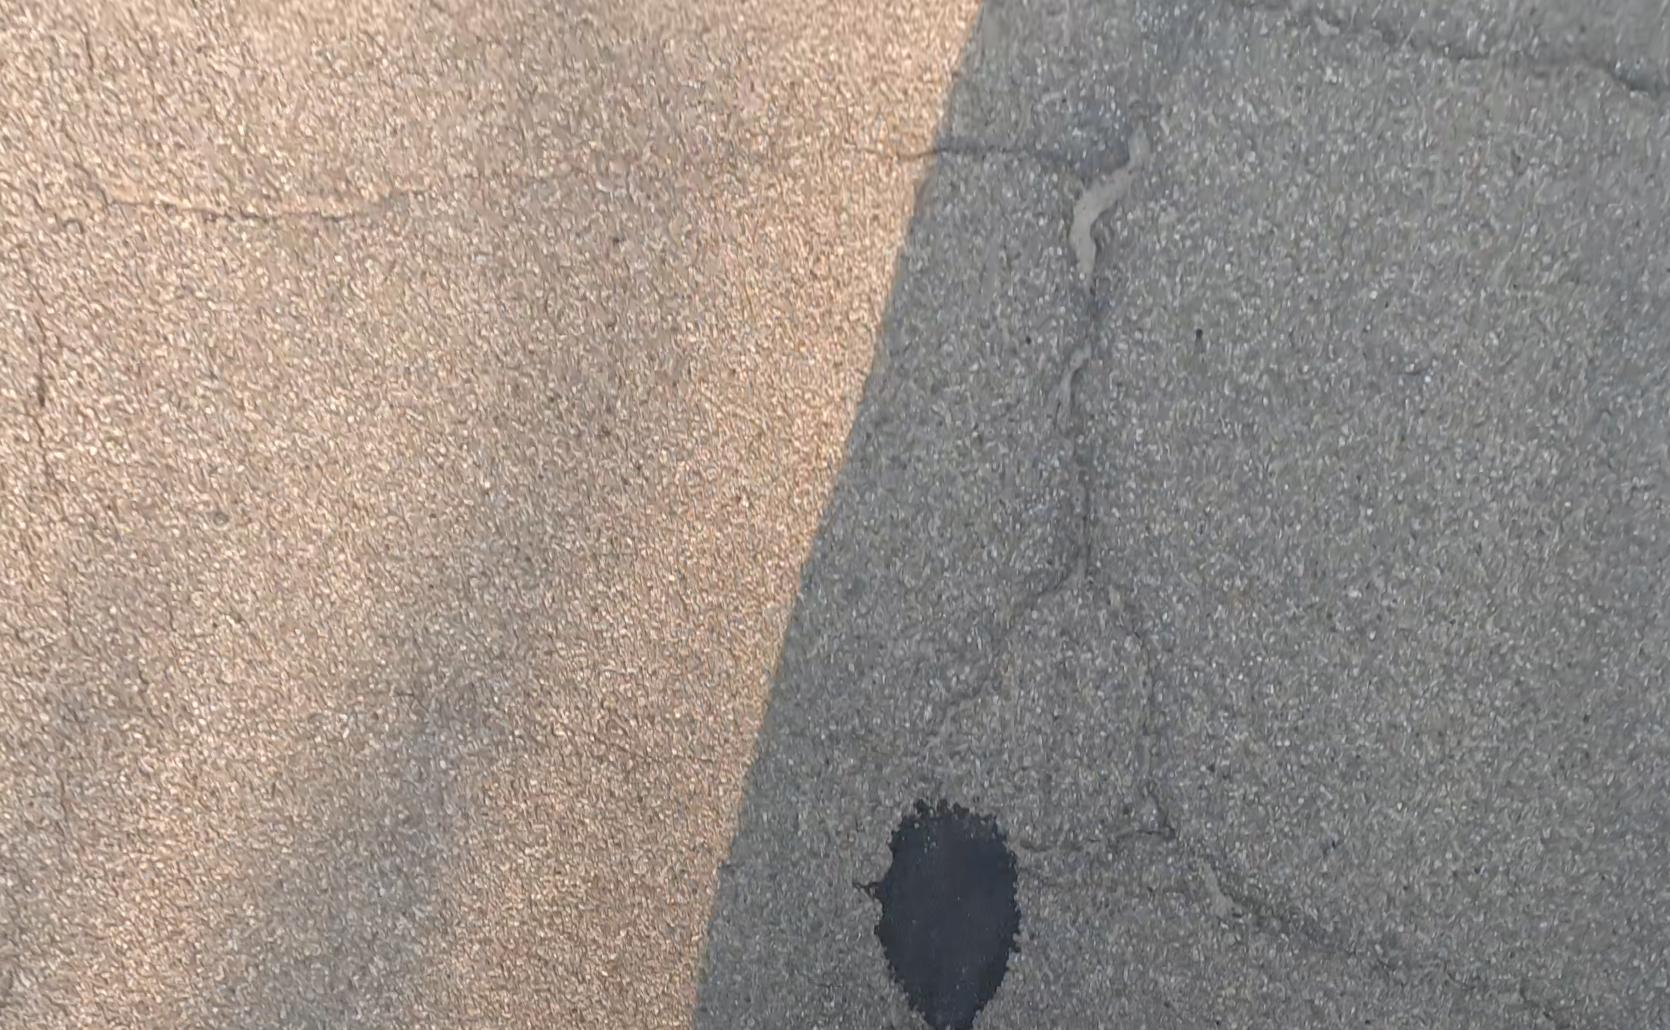pothole_patch_good: (865, 800, 1022, 1030)
